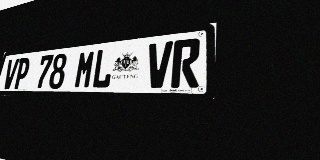7: (34, 54, 54, 89)
8: (47, 53, 69, 89)
L: (91, 48, 115, 88)
M: (73, 50, 96, 89)
P: (13, 57, 31, 89)
R: (171, 38, 201, 88)
V: (145, 41, 173, 88), (2, 58, 20, 89)
